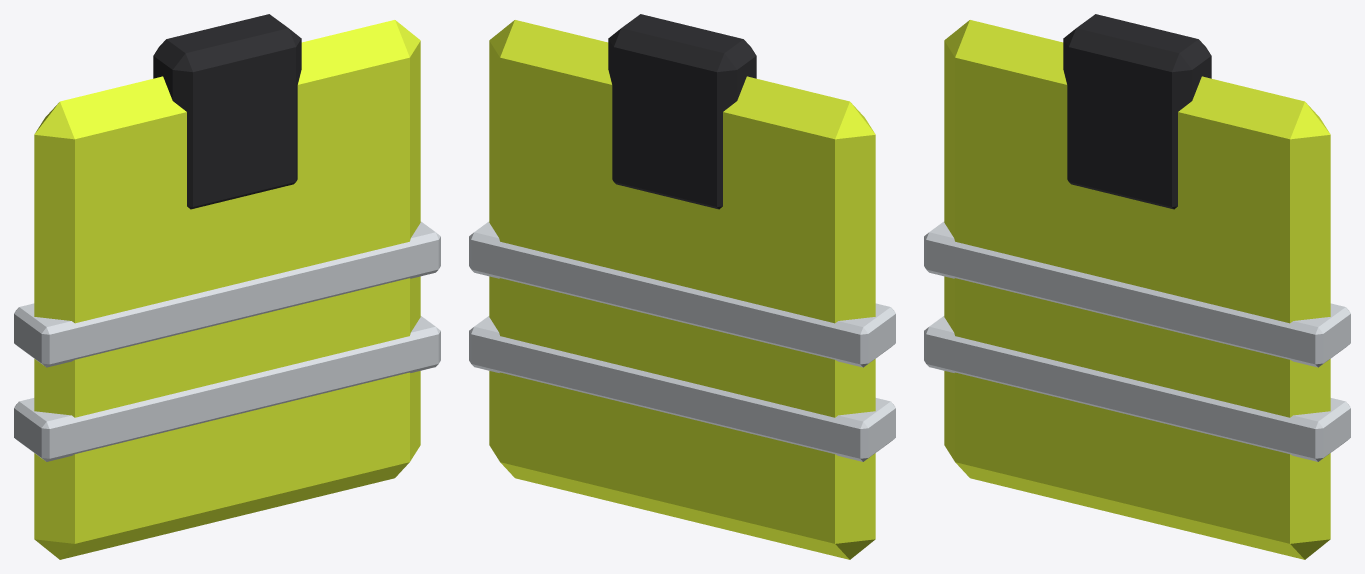
File: relic_hivis_vest.fbx
The picture shows the model from 3 angles, left to right: view 1: azimuth 30°, elevation 25°; view 2: azimuth 150°, elevation 25°; view 3: azimuth 330°, elevation 25°; orthographic projection.
Parts seen in each view (by area): view 1: Prop; view 2: Prop; view 3: Prop.
Boxes of the visible parts, x1,y1,x2,y2 form: Prop: (14, 14, 440, 559); Prop: (469, 14, 895, 559); Prop: (924, 14, 1350, 559).
Size of the model in its own units: 0.31 by 0.046 by 0.36.
